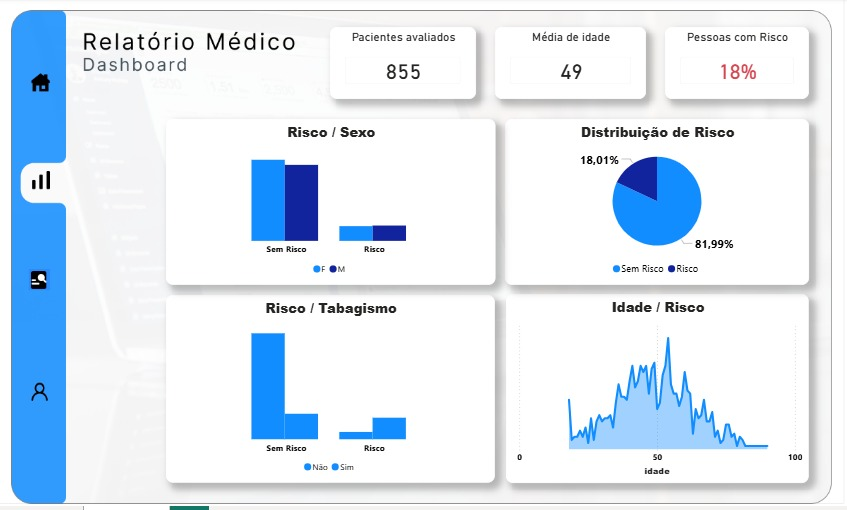

What the dashboard file says about the page in this screenshot:
{"tool":"powerbi","page":{"name":"Página 1","canvas":[1280,720],"ordinal":0},"visuals":[{"type":"clusteredColumnChart","title":" Risco / Tabagismo","fields":{"Category":["pacientes_clinica_limpo_atualizado.risco_cancer_pulmao"],"Y":["CountNonNull(pacientes_clinica_limpo_atualizado.nome_paciente)"],"Series":["pacientes_clinica_limpo_atualizado.tabagismo"]},"box":[279.2,420.9,466.3,266.5],"z":0},{"type":"lineChart","title":"Idade / Risco ","fields":{"Category":["pacientes_clinica_limpo_atualizado.idade"],"Y":["CountNonNull(pacientes_clinica_limpo_atualizado.risco_cancer_pulmao)"]},"box":[761.1,419.5,429.4,267.9],"z":1000},{"type":"pieChart","title":"Distribuição de Risco","fields":{"Category":["pacientes_clinica_limpo_atualizado.risco_cancer_pulmao"],"Y":["CountNonNull(pacientes_clinica_limpo_atualizado.nome_paciente)"]},"box":[759.7,171.5,430.9,235.3],"z":2000},{"type":"clusteredColumnChart","title":"Risco / Sexo","fields":{"Category":["pacientes_clinica_limpo_atualizado.risco_cancer_pulmao"],"Y":["CountNonNull(pacientes_clinica_limpo_atualizado.nome_paciente)"],"Series":["pacientes_clinica_limpo_atualizado.sexo"]},"box":[279.4,171.4,466.6,234.7],"z":3000},{"type":"cardVisual","title":"Pacientes avaliados","fields":{"Data":["CountNonNull(pacientes_clinica_limpo_atualizado.nome_paciente)"]},"box":[511.7,41.1,206.9,102],"z":4000},{"type":"cardVisual","title":"Média de idade","fields":{"Data":["Avg(pacientes_clinica_limpo_atualizado.idade)"]},"box":[745.5,41.1,214,102],"z":5000},{"type":"cardVisual","title":"Pessoas com Risco","fields":{"Data":["pacientes_clinica_limpo_atualizado.Porcentagem_Risco"]},"box":[986.5,41.1,204.1,102],"z":6000}]}

Visuals, with their boxes on the page's 1280x720 design canvas (x1, y1, x2, y2). These are canvas units, not pixel positions in the 847x510 screenshot, which may show the page scaled, cropped or inside an application window:
" Risco / Tabagismo" clusteredColumnChart: (279, 421, 746, 687)
"Idade / Risco " lineChart: (761, 420, 1190, 687)
"Distribuição de Risco" pieChart: (760, 172, 1191, 407)
"Risco / Sexo" clusteredColumnChart: (279, 171, 746, 406)
"Pacientes avaliados" cardVisual: (512, 41, 719, 143)
"Média de idade" cardVisual: (746, 41, 960, 143)
"Pessoas com Risco" cardVisual: (986, 41, 1191, 143)
